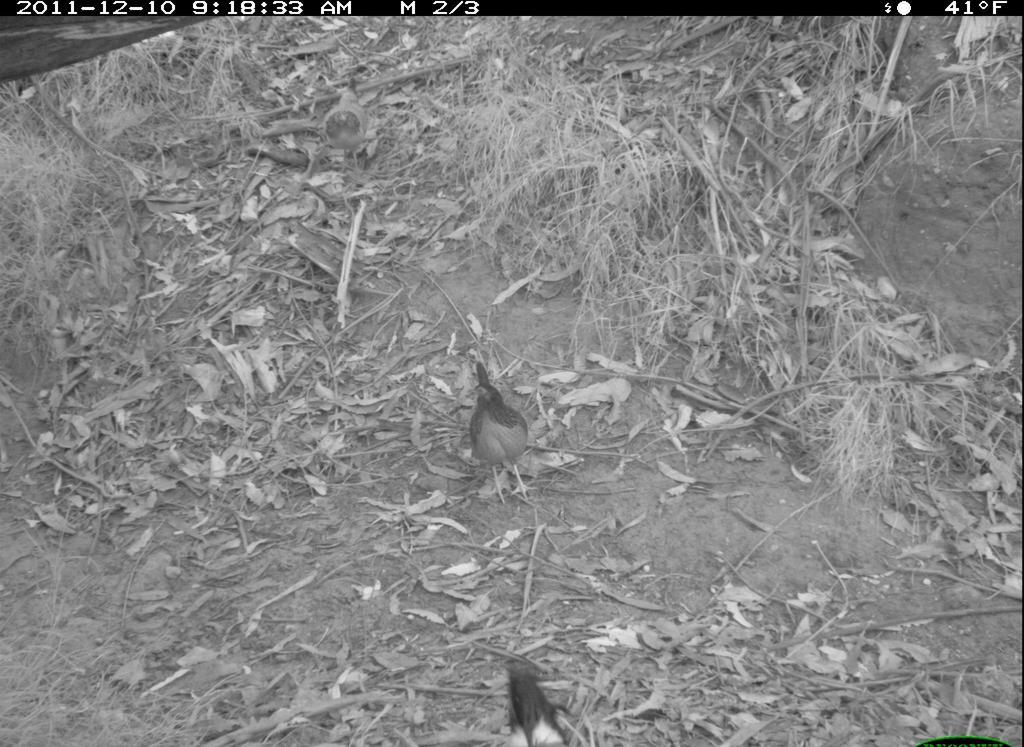bird: (460, 353, 537, 509), (473, 658, 597, 747)
